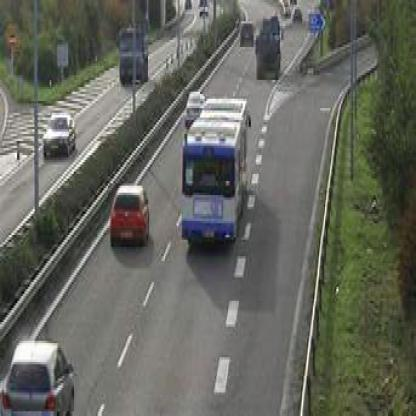bus: (182, 119, 250, 241)
car: (5, 340, 79, 415), (109, 184, 150, 250), (42, 111, 79, 154), (184, 90, 202, 133), (241, 23, 256, 51)
truck: (120, 25, 150, 86), (257, 18, 280, 84)
